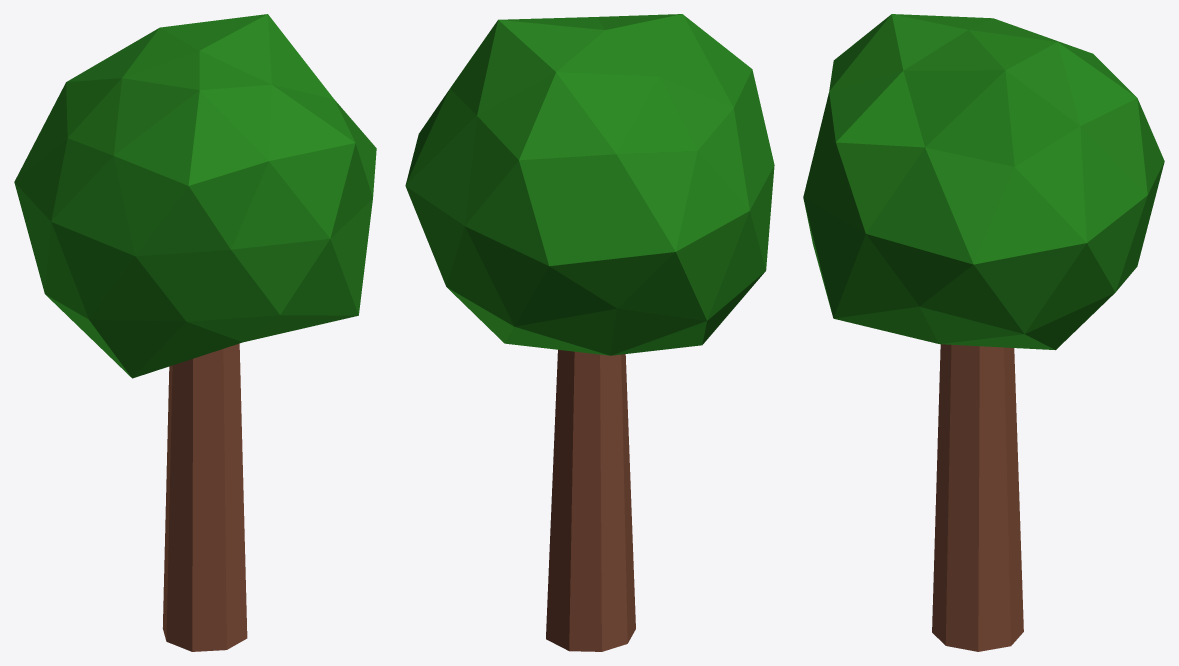
File: Tree_04_summer_mat.fbx
The picture shows the model from 3 angles, left to right: view 1: azimuth 30°, elevation 25°; view 2: azimuth 150°, elevation 25°; view 3: azimuth 270°, elevation 25°; orthographic projection. The views are drawn at different scales.
Parts seen in each view (by area): view 1: Tree_04_summer_mat; view 2: Tree_04_summer_mat; view 3: Tree_04_summer_mat.
Boxes of the visible parts, x1,y1,x2,y2 form: Tree_04_summer_mat: (14, 14, 376, 651); Tree_04_summer_mat: (405, 14, 774, 651); Tree_04_summer_mat: (803, 14, 1164, 651).
Size of the model in its own units: 4.43 by 7.71 by 4.21.
